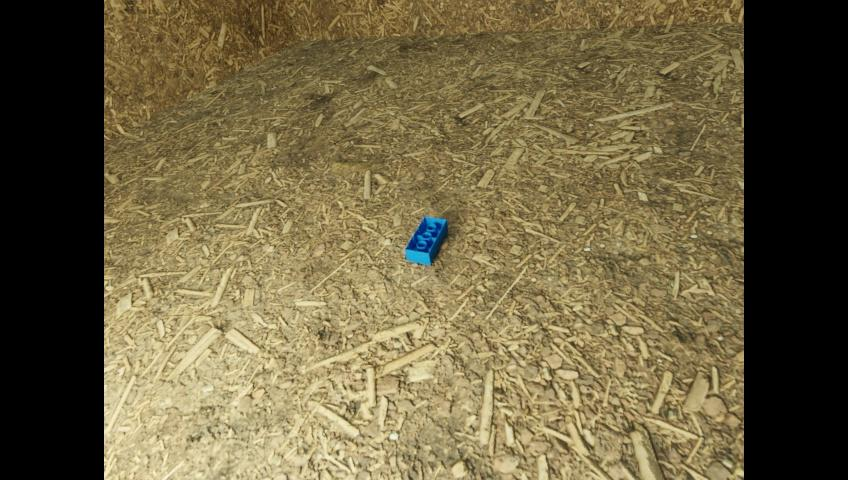4x2_blue: (404, 216, 447, 264)
